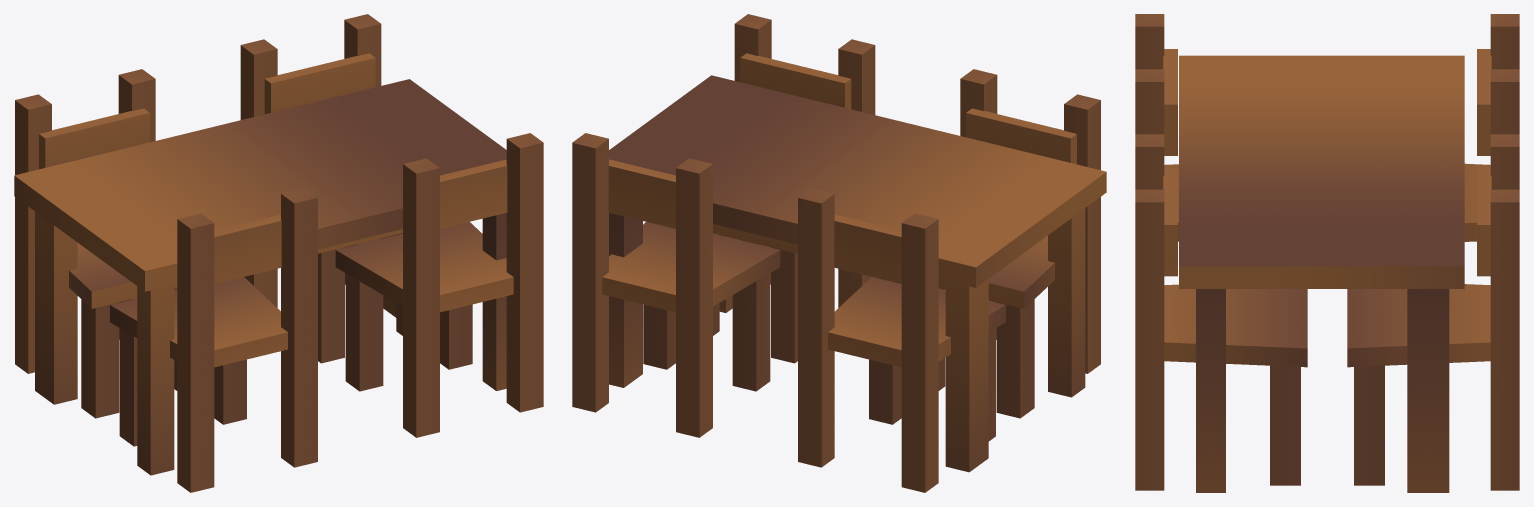
Rendered from DinnerTable.FBX.
The picture shows the model from 3 angles, left to right: view 1: azimuth 30°, elevation 25°; view 2: azimuth 150°, elevation 25°; view 3: azimuth 270°, elevation 25°; orthographic projection. The views are drawn at different scales.
Parts seen in each view (by area): view 1: Table, Chaire003, Chaire004, Chaire2, Chaire; view 2: Table, Chaire, Chaire2, Chaire004, Chaire003; view 3: Table, Chaire003, Chaire, Chaire2, Chaire004.
Boxes of the visible parts, x1,y1,x2,y2 form: Table: (14, 79, 506, 475); Chaire003: (335, 133, 543, 437); Chaire004: (110, 188, 317, 492); Chaire2: (15, 69, 177, 418); Chaire: (240, 14, 402, 363); Table: (609, 75, 1106, 472); Chaire: (572, 133, 780, 437); Chaire2: (798, 188, 1005, 492); Chaire004: (938, 69, 1100, 418); Chaire003: (713, 14, 875, 363); Table: (1179, 55, 1464, 492); Chaire003: (1135, 134, 1307, 490); Chaire: (1347, 134, 1519, 490); Chaire2: (1464, 14, 1519, 241); Chaire004: (1135, 14, 1178, 241).
Size of the model in its own units: 201 by 128 by 155.
1 material, 1 textured.
